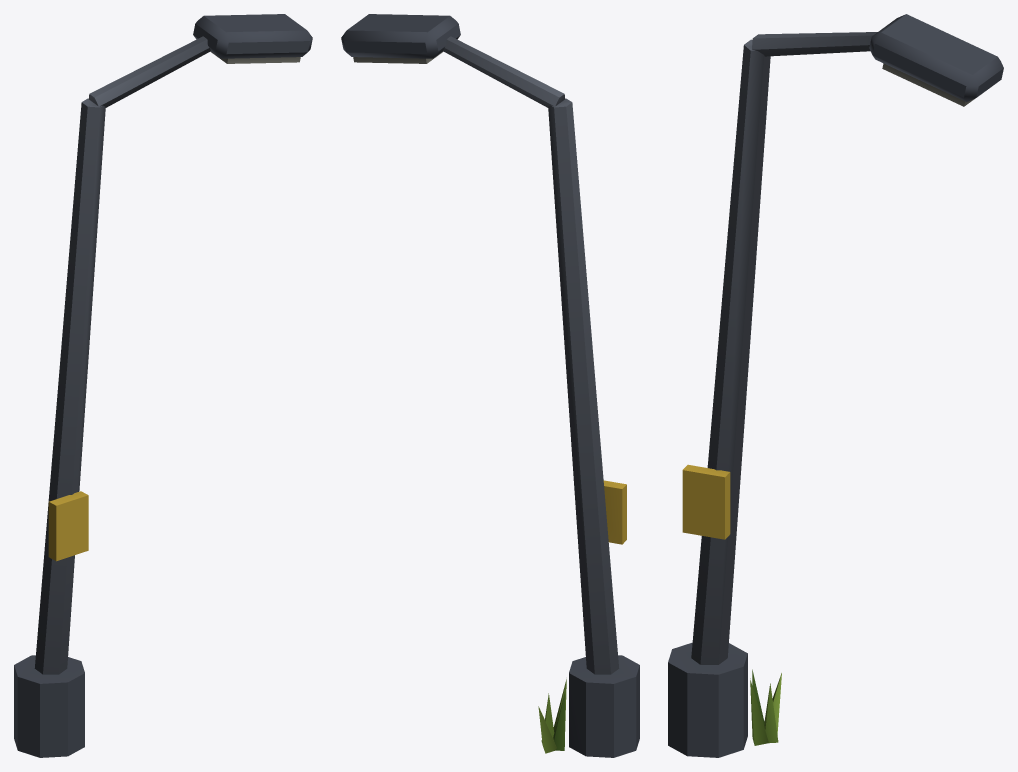
The model's file is p_st_laterne.glb.
3 views of the same model, side by side, from view 1: azimuth 30°, elevation 25°; view 2: azimuth 150°, elevation 25°; view 3: azimuth 330°, elevation 25° (orthographic). The views are drawn at different scales.
Visible parts, largest first — view 1: body; view 2: body; view 3: body.
Boxes of the visible parts, x1,y1,x2,y2 form: body: (14,14,312,757); body: (341,14,639,757); body: (668,14,1003,757).
Bounding box in the file's own units: 1.61 × 3.68 × 0.4638.
